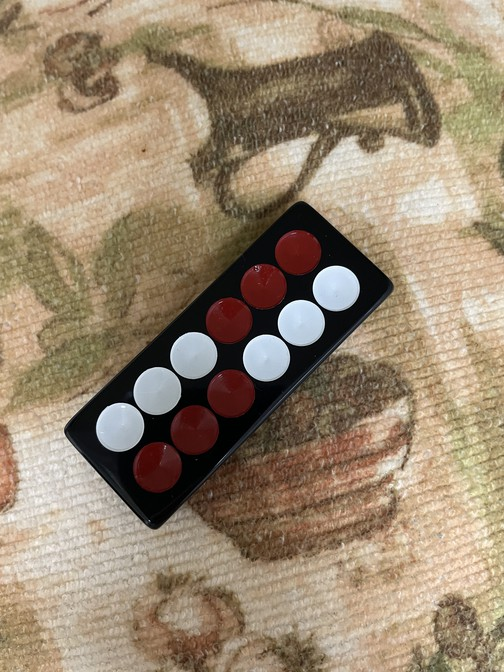heaven: (64, 202, 394, 532)
